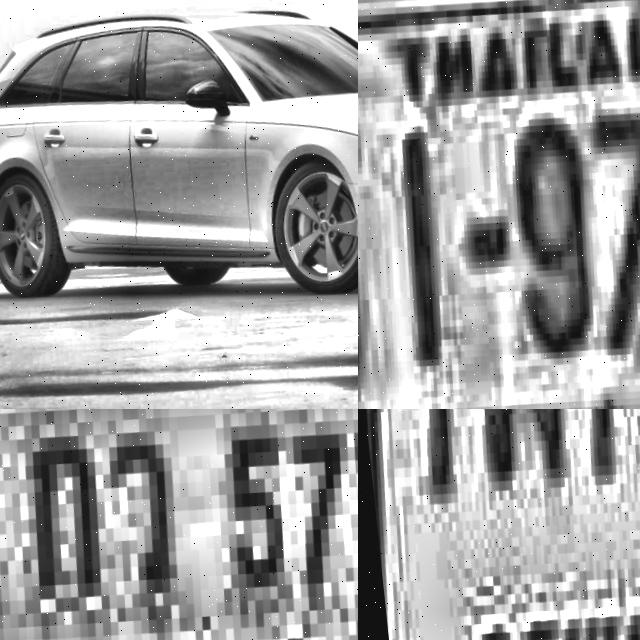license-plate: (358, 0, 640, 409), (0, 409, 358, 640), (358, 409, 640, 640)
